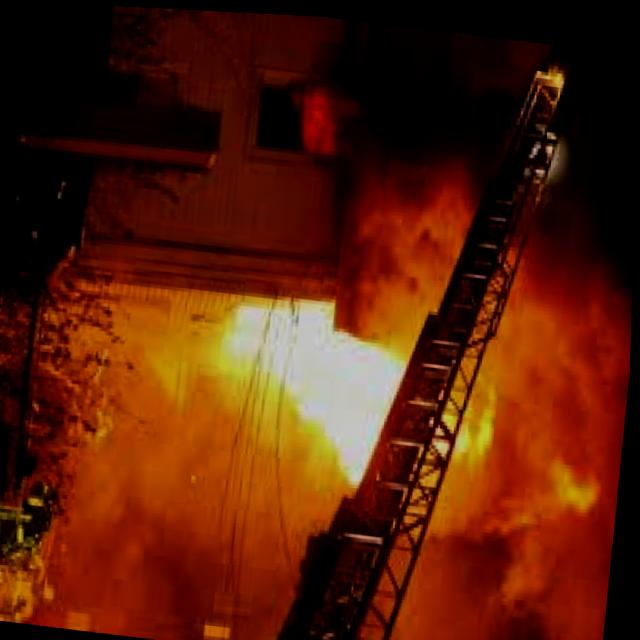Fire: (211, 251, 534, 517)
Smoke: (329, 42, 639, 614)
